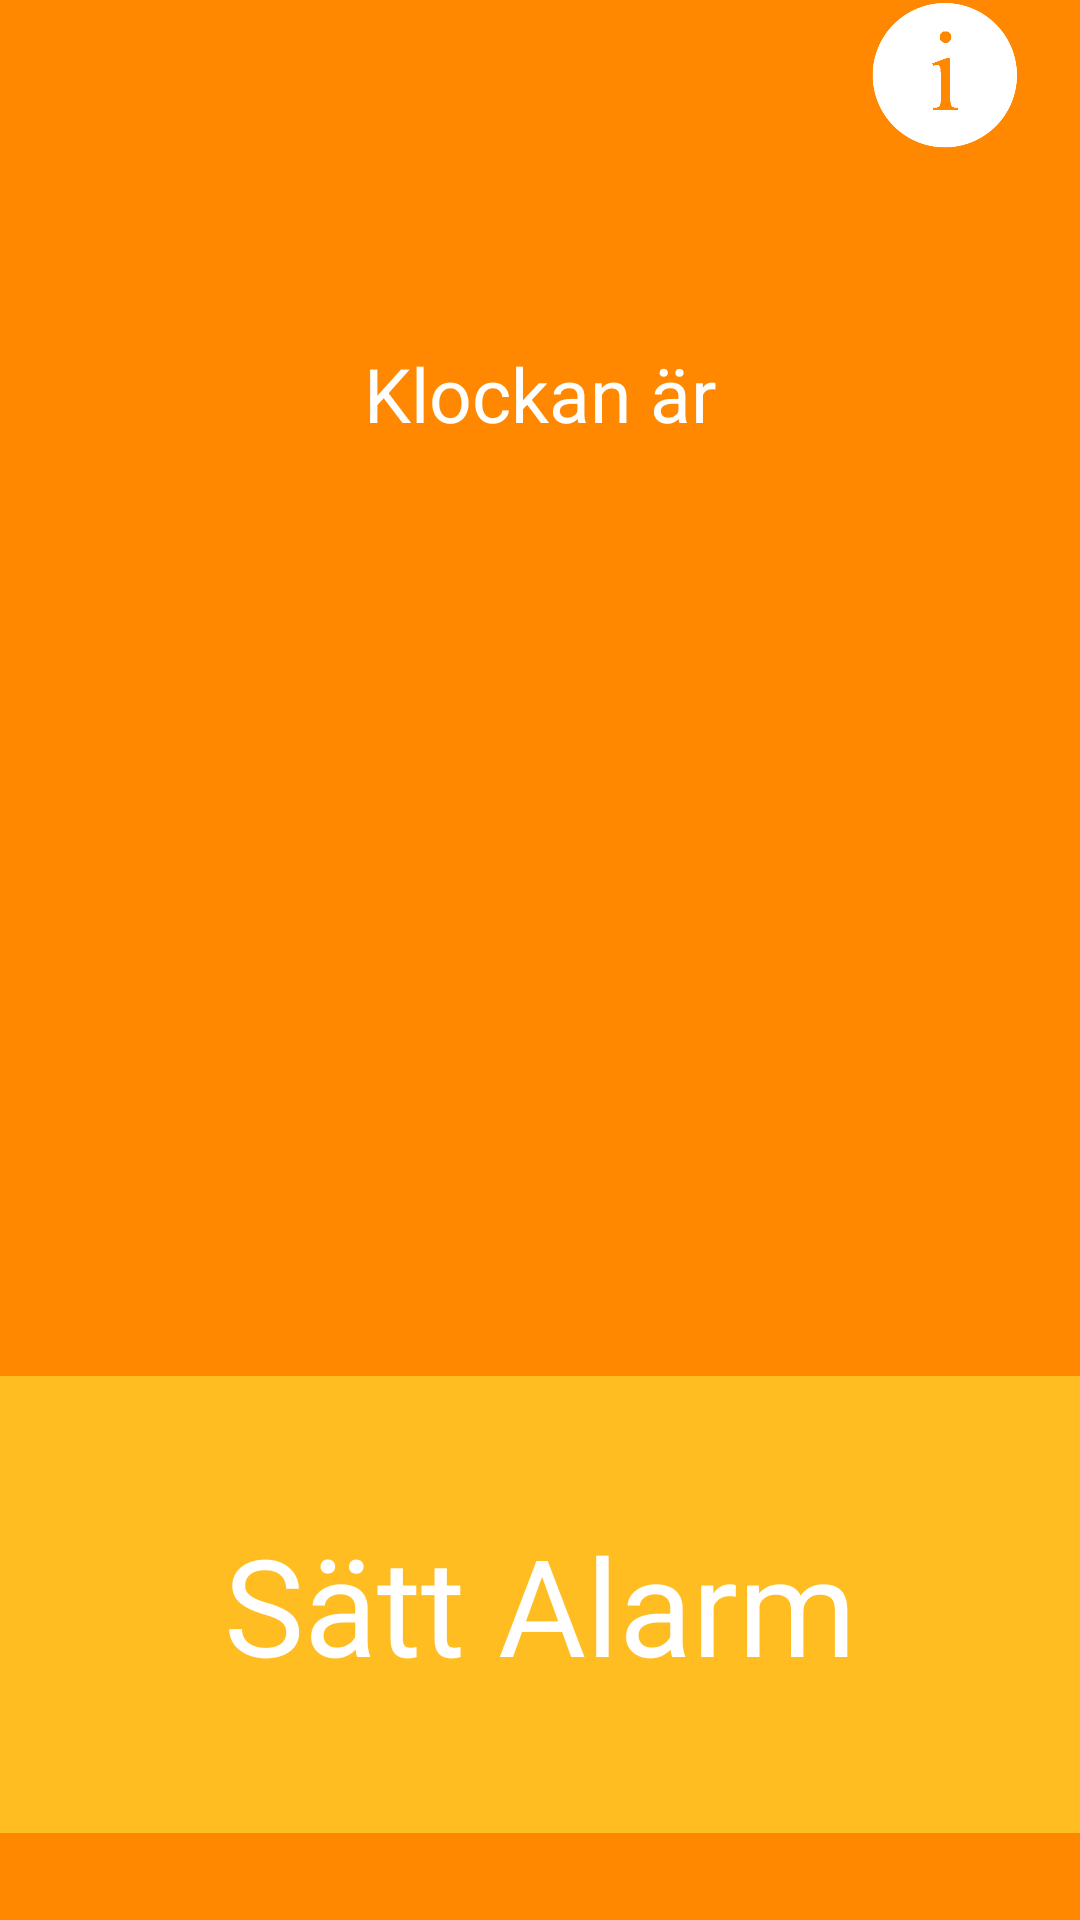

Locate icon controls on the screen. Image size 1080px×1920px, boxes as (x1, y1, x2, y2).
info: (872, 3, 1017, 148)
